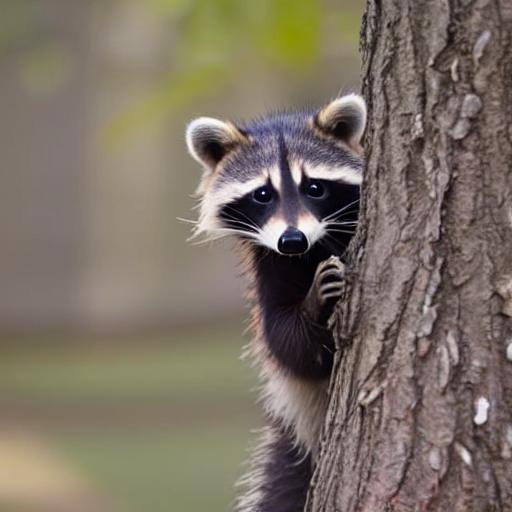raccoon: (182, 88, 367, 512)
